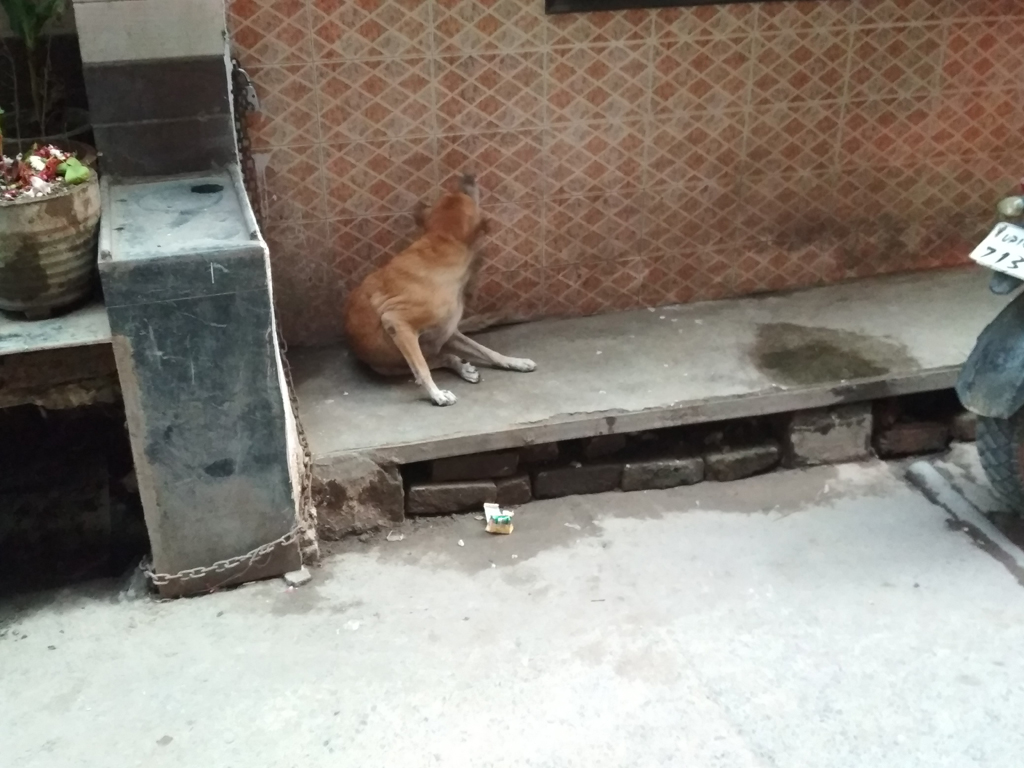dog: (344, 172, 537, 406)
